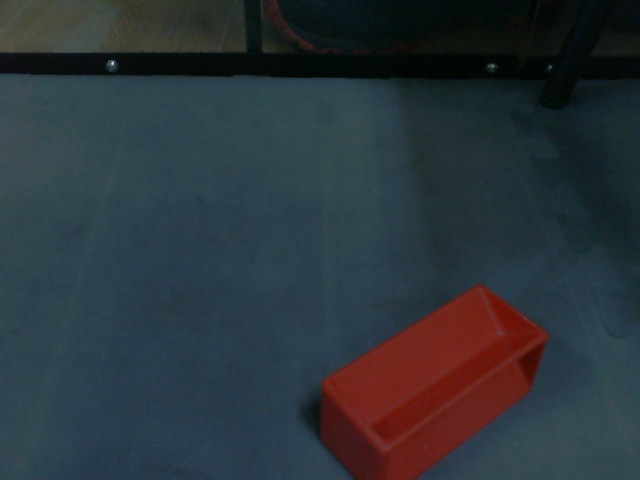RedSample: (314, 282, 551, 480)
